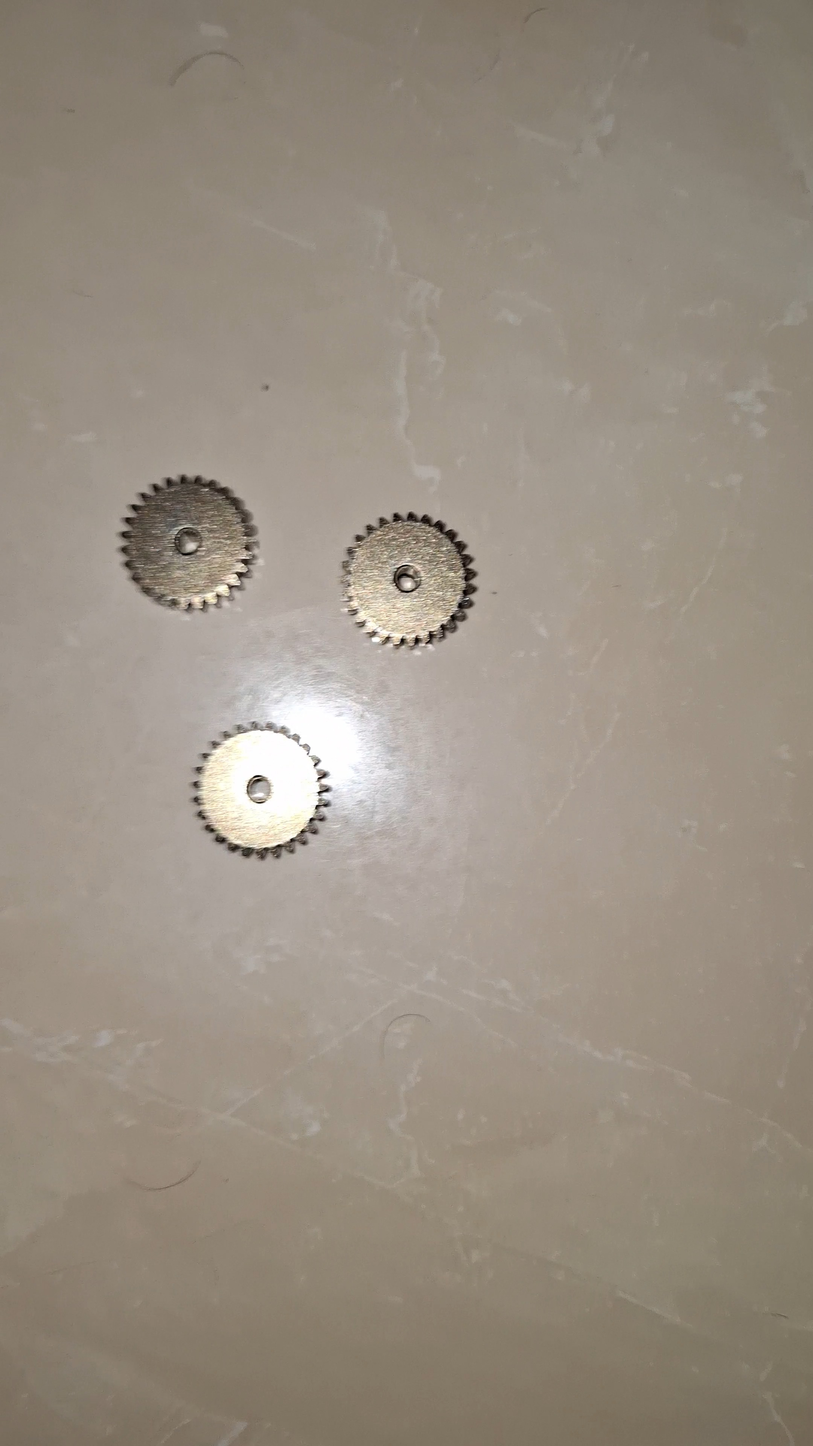spur gear: (194, 724, 329, 857), (122, 476, 254, 610), (344, 513, 475, 646)
